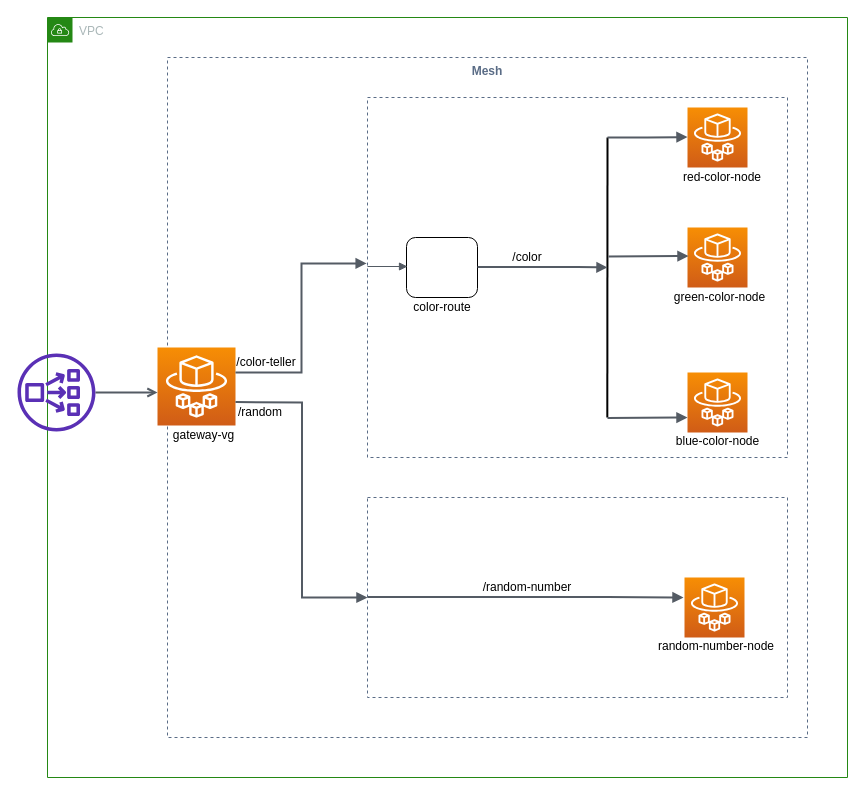
Some shapes in this 865 by 795 pixel diagram are drawn without their labels. Here are the shapes that lost their labels. From the top down, the box of each, then its label:
(366, 96, 788, 458): color-vs.dev-am.local
(366, 496, 788, 698): random-number-vs.dev-am.local
